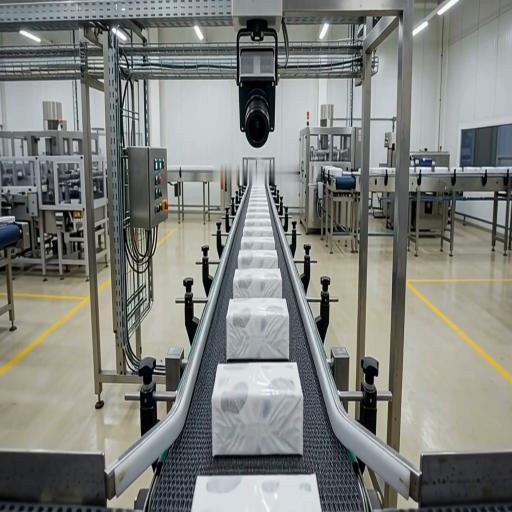good: (212, 362, 304, 456), (191, 469, 323, 512), (225, 297, 290, 360), (233, 267, 283, 299), (237, 249, 279, 267), (240, 234, 276, 246), (242, 225, 273, 235), (244, 218, 272, 226), (245, 211, 271, 218), (247, 206, 269, 211), (248, 201, 269, 205), (250, 188, 266, 193), (249, 197, 268, 201), (249, 193, 267, 197)
